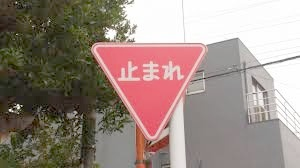Regulatory_sign_triangle: (91, 39, 212, 141)
